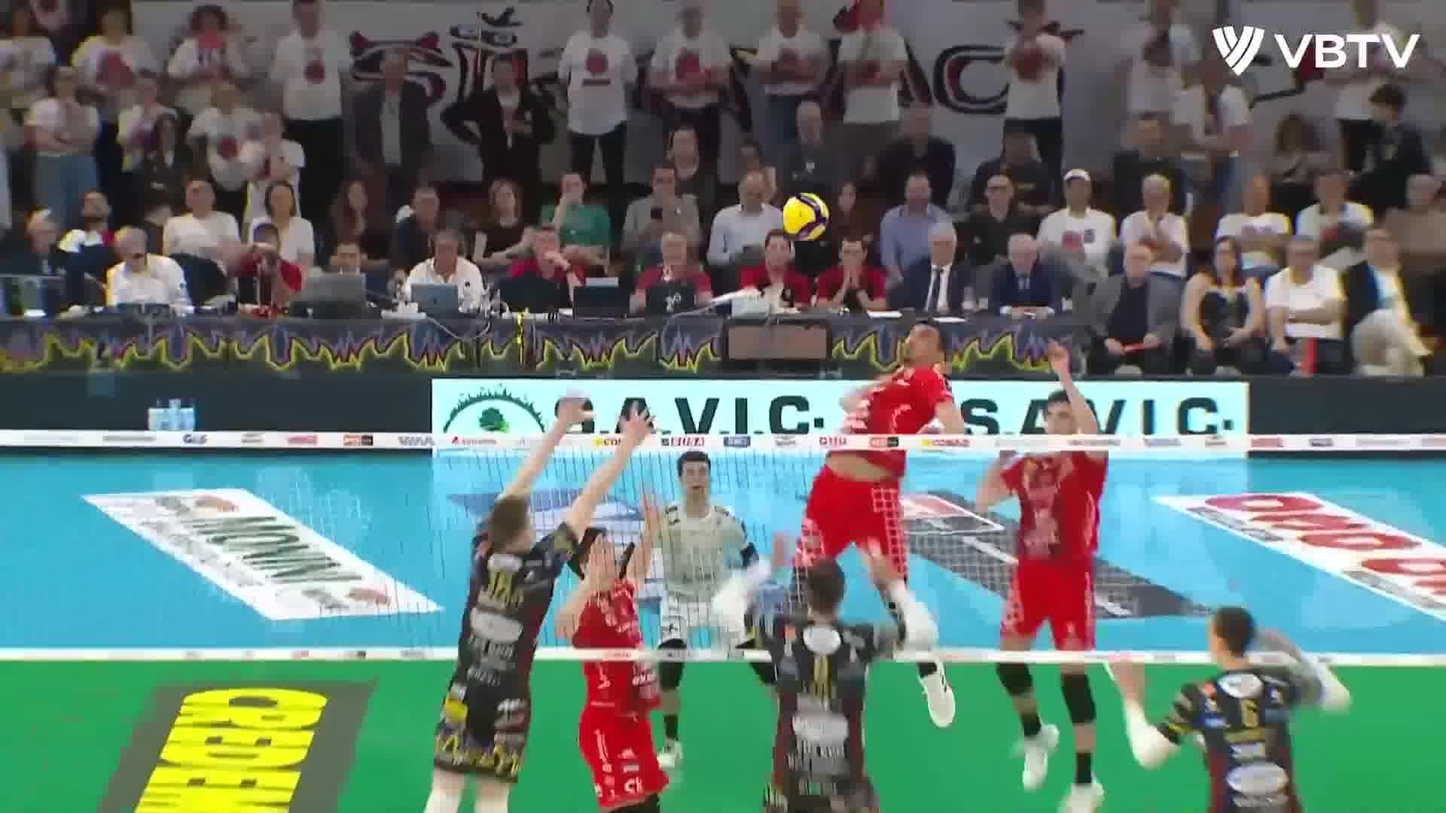balls: (779, 186, 834, 245)
